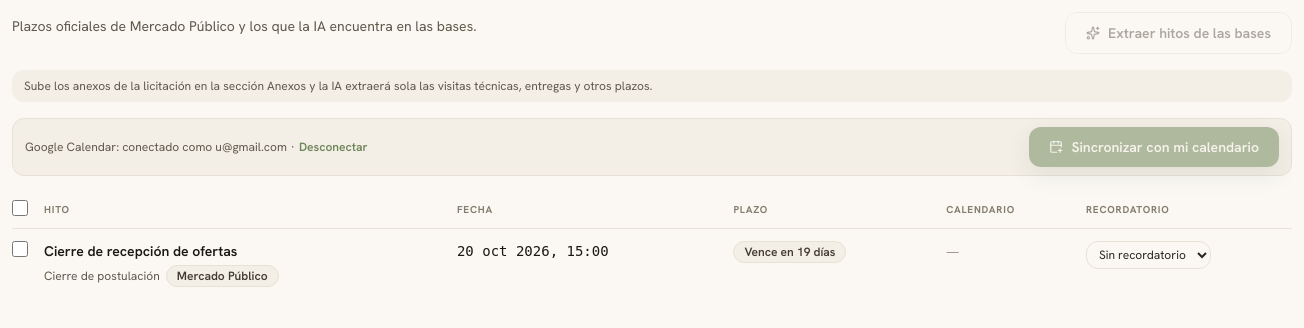
Test: MilestonesSection › sincronización con Google Calendar › sincroniza los hitos elegidos y los marca en la tabla
Expected: the text "Google Calendar: conectado como u@gmail.com" is shown, [25,139,287,155]
Click the checkbox named "seleccionar cierre de recepción de ofertas": (20,249) [12,241,28,257]
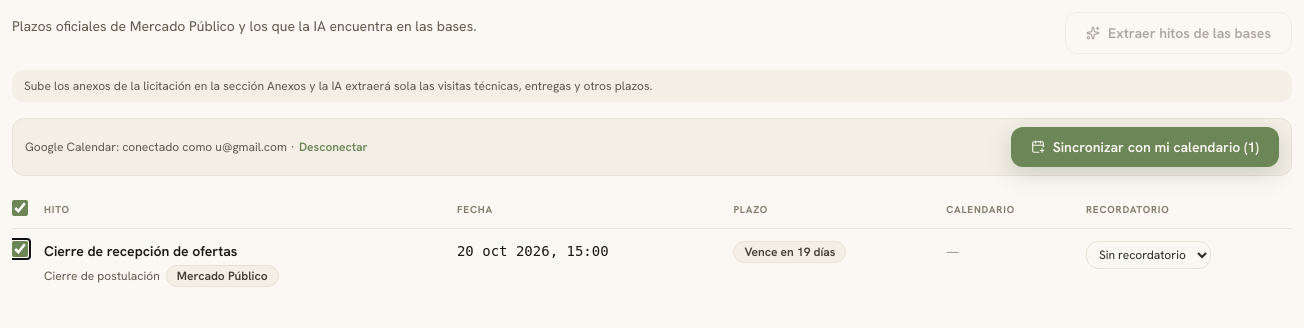
Click the button "Sincronizar con mi calendario (1)": (1145,147) [1011,127,1279,167]
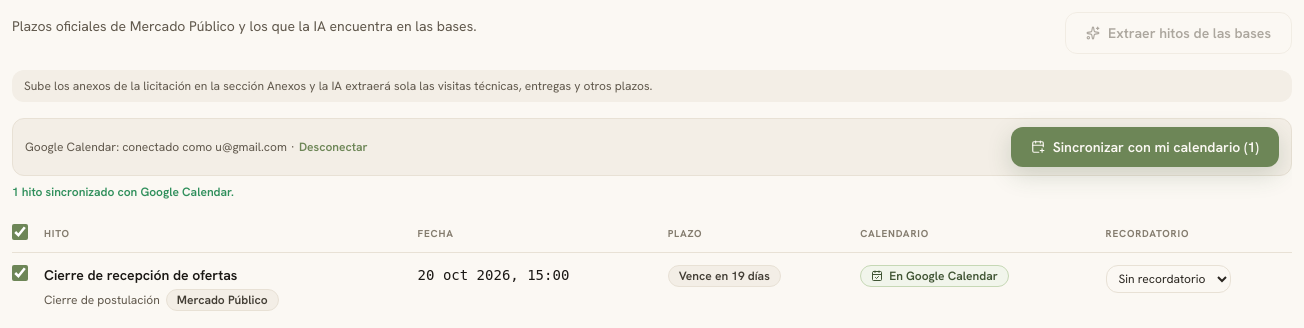
Result: the text "1 hito sincronizado con Google Calendar." is shown at [12,184,234,200]
Result: the text "En Google Calendar" is shown at [860,265,1009,287]
